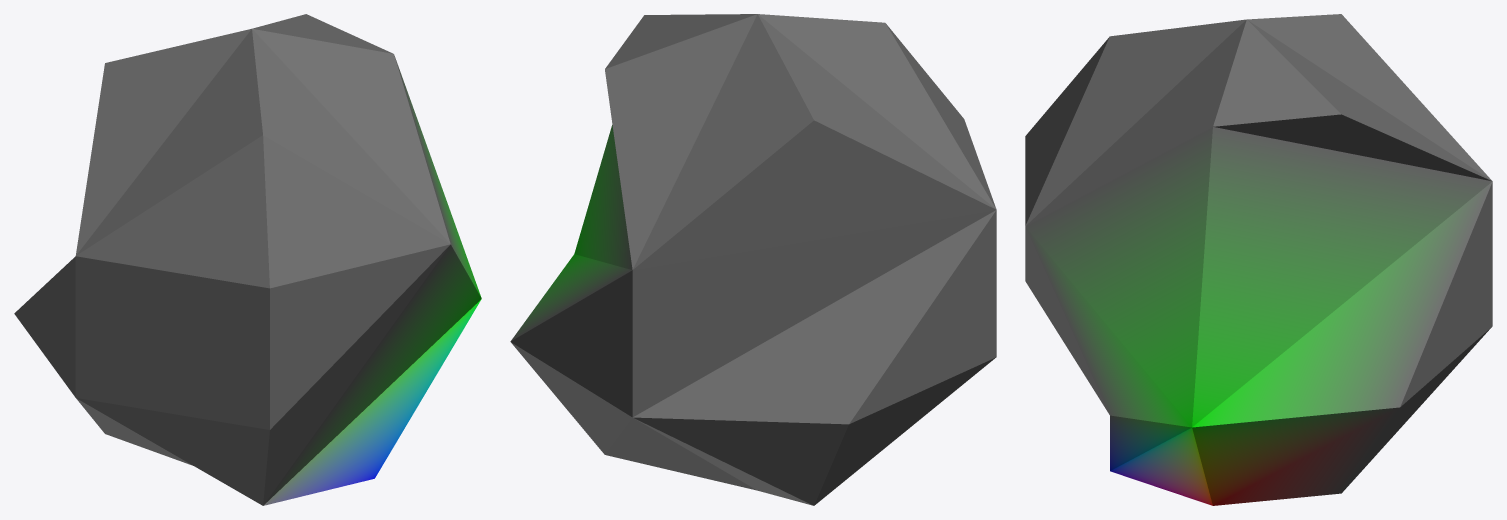
Rendered from gate_cleaning_conquest_21.obj.
The picture shows the model from 3 angles, left to right: view 1: azimuth 30°, elevation 25°; view 2: azimuth 150°, elevation 25°; view 3: azimuth 270°, elevation 25°; orthographic projection. The views are drawn at different scales.
Bounding box in the file's own units: 1.85 × 2 × 1.81.
